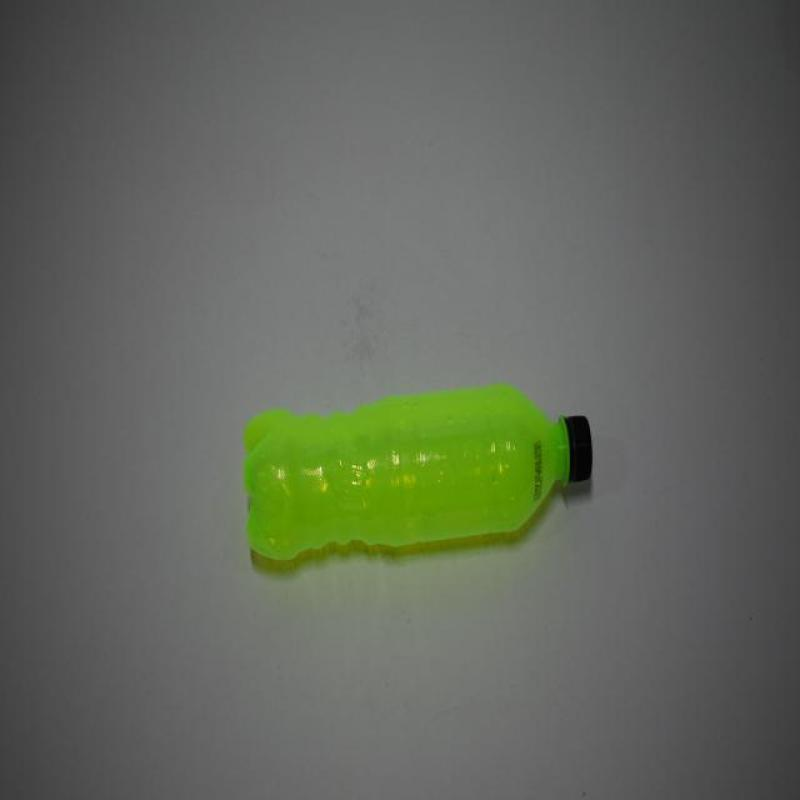botella: (243, 382, 592, 568)
